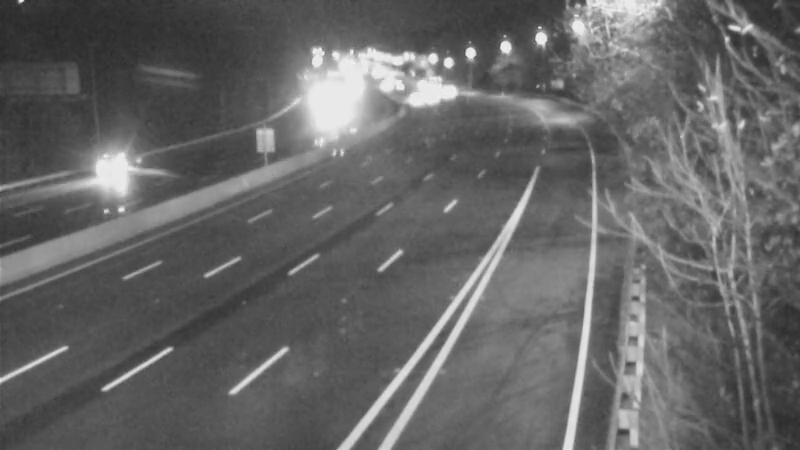vehicle: (57, 125, 137, 205), (420, 68, 470, 118), (390, 73, 440, 123)
